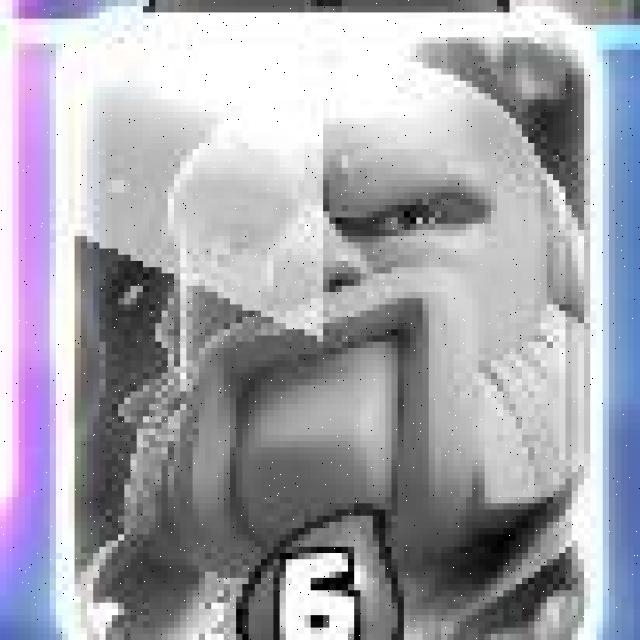Evolved_Royal_Giant: (62, 17, 603, 640)
